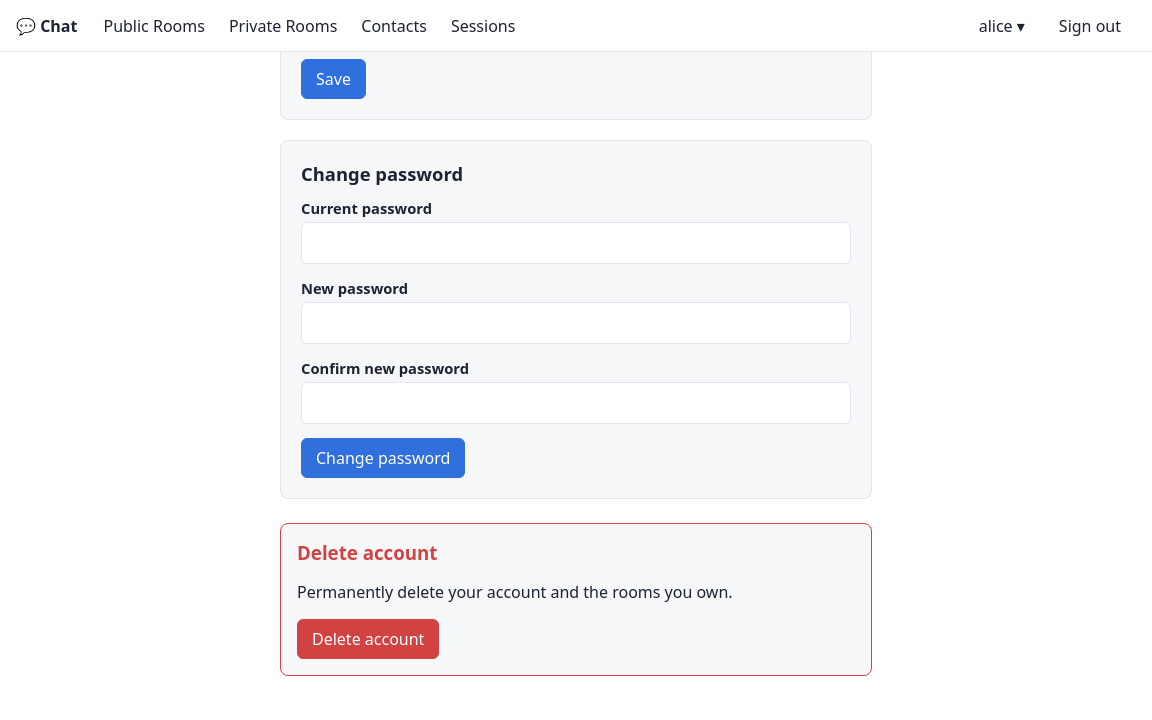
delete account › lists the consequences with owned rooms, checks the password and signs out
(page scrolled)
Click the button "Delete account" at coordinates (368, 639), box x1=297 y1=619 x2=439 y2=659
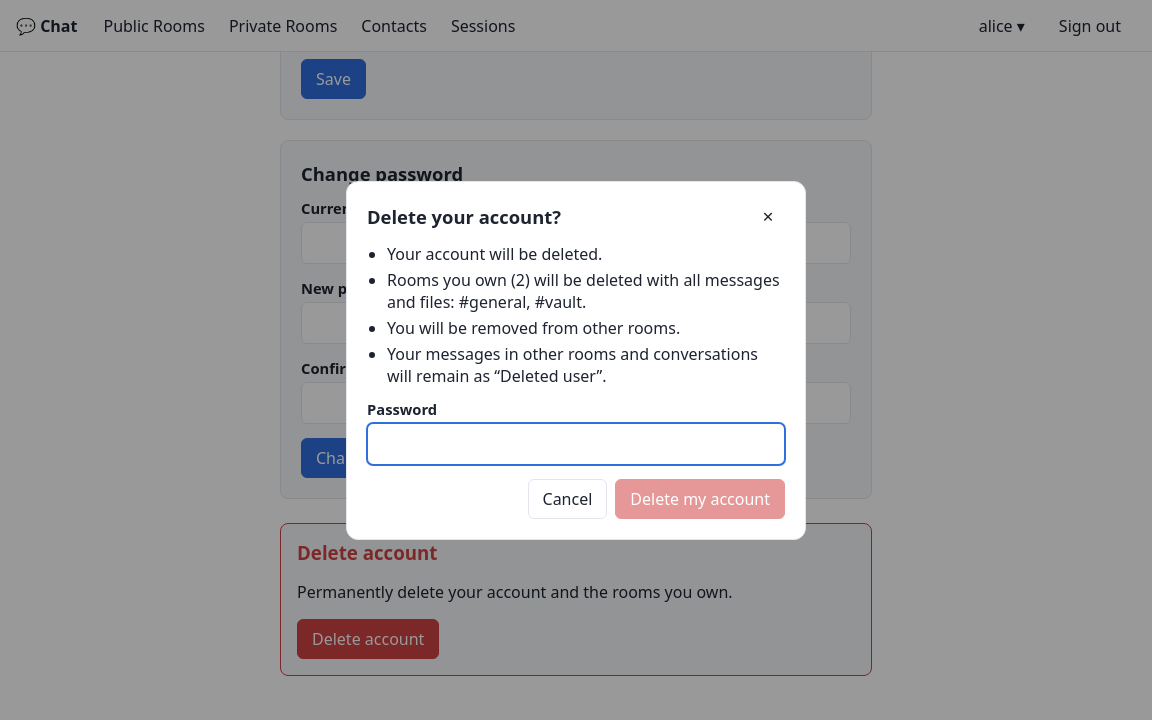
Check: the list item "Rooms you own (2)" shows "#general, #vault", box x1=459 y1=290 x2=582 y2=312
Check: the dialog "Delete your account?" shows "Deleted user", box x1=387 y1=342 x2=758 y2=386
Type "nope" into the password field labelled "Password" at coordinates (576, 444), box x1=367 y1=422 x2=785 y2=464
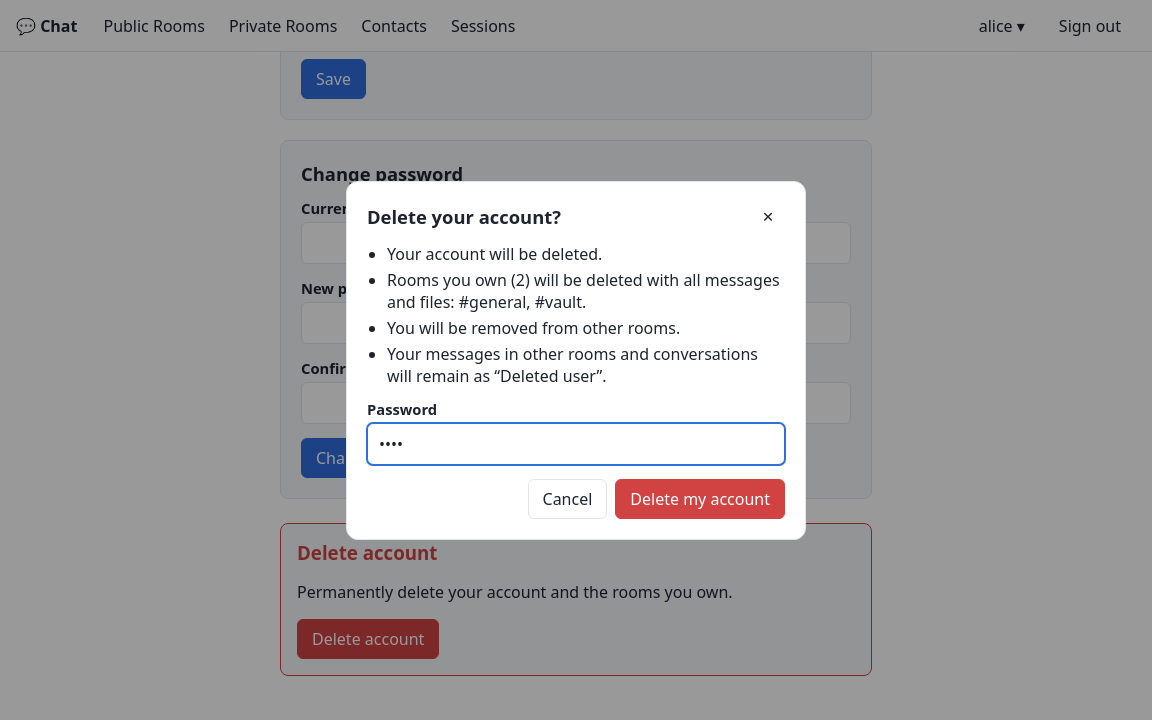
Click the button "Delete my account" at coordinates (700, 498), box x1=615 y1=478 x2=785 y2=518
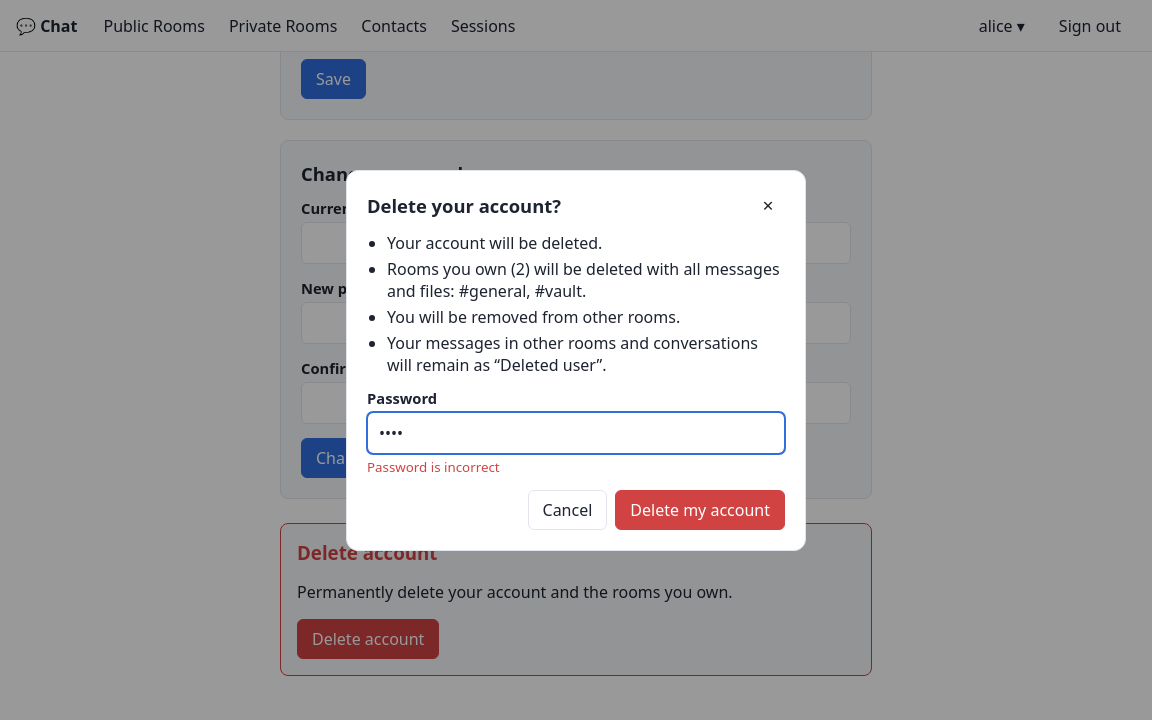
Check: the text "Password is incorrect" is shown, box x1=367 y1=458 x2=500 y2=476
Type "right-password" into the password field labelled "Password" at coordinates (576, 432), box x1=367 y1=412 x2=785 y2=454
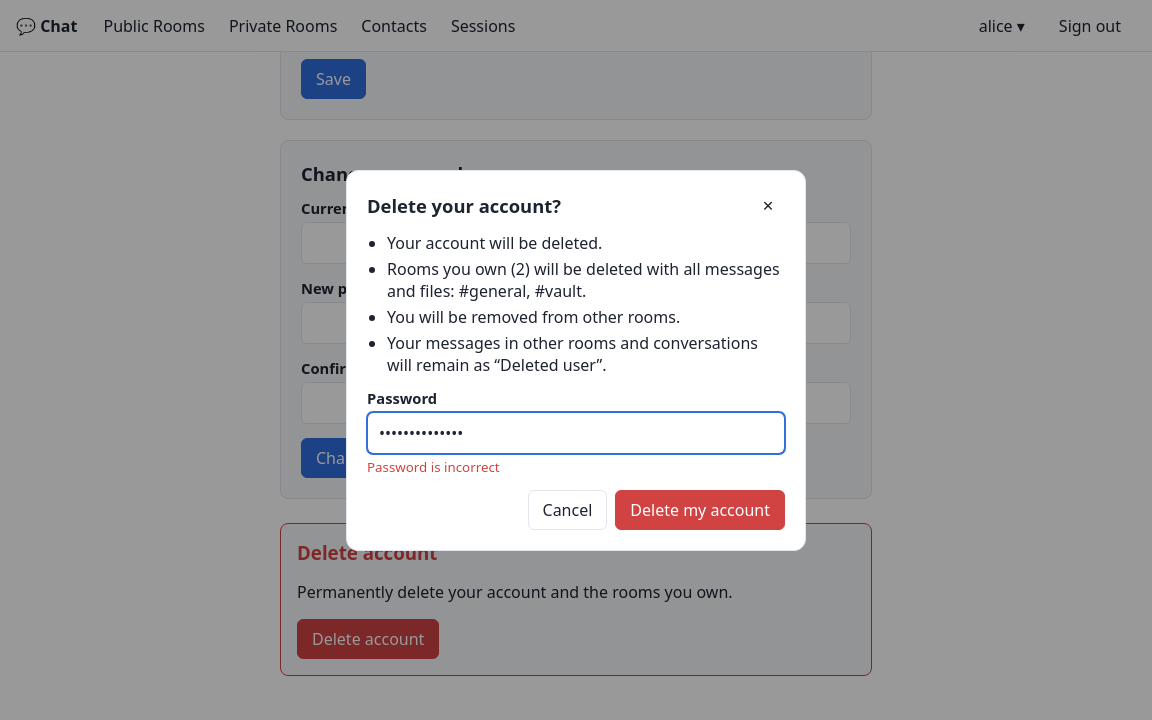
Click the button "Delete my account" at coordinates (700, 510), box x1=615 y1=490 x2=785 y2=530
(page scrolled)
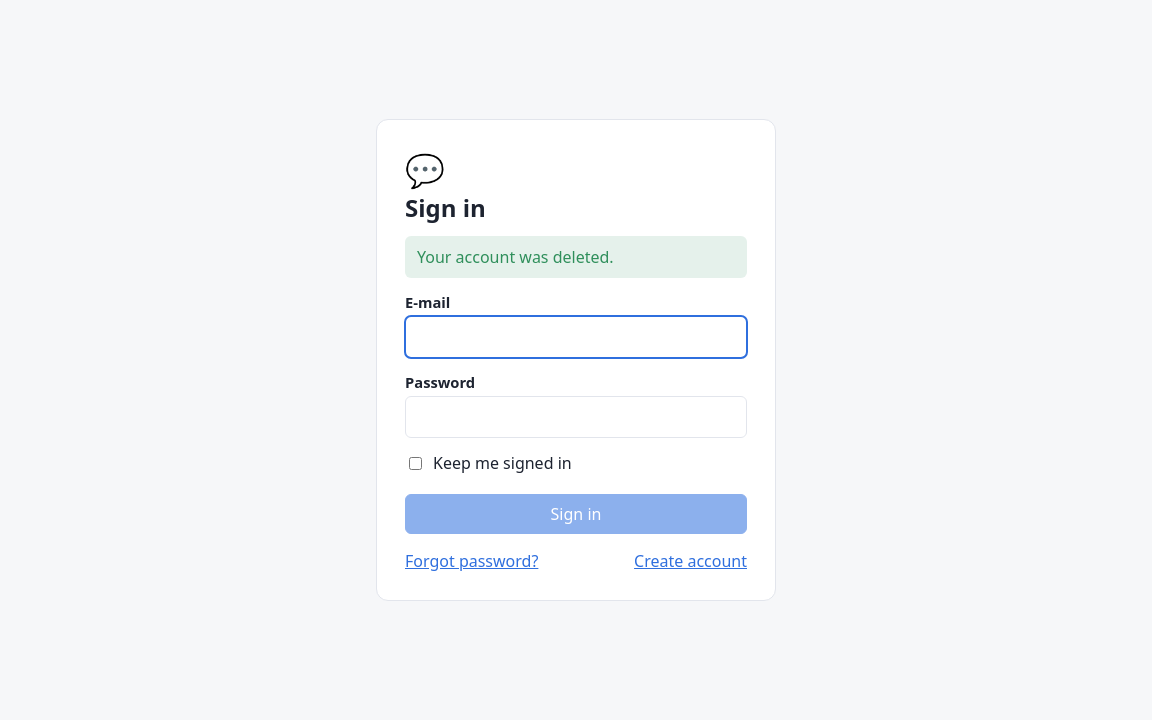
Check: the text "Your account was deleted." is shown, box x1=405 y1=236 x2=747 y2=278
Check: the heading "Sign in" is shown, box x1=405 y1=191 x2=486 y2=224
